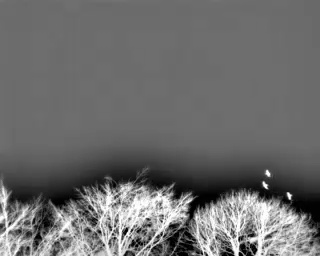BIRD: (263, 167, 274, 180)
